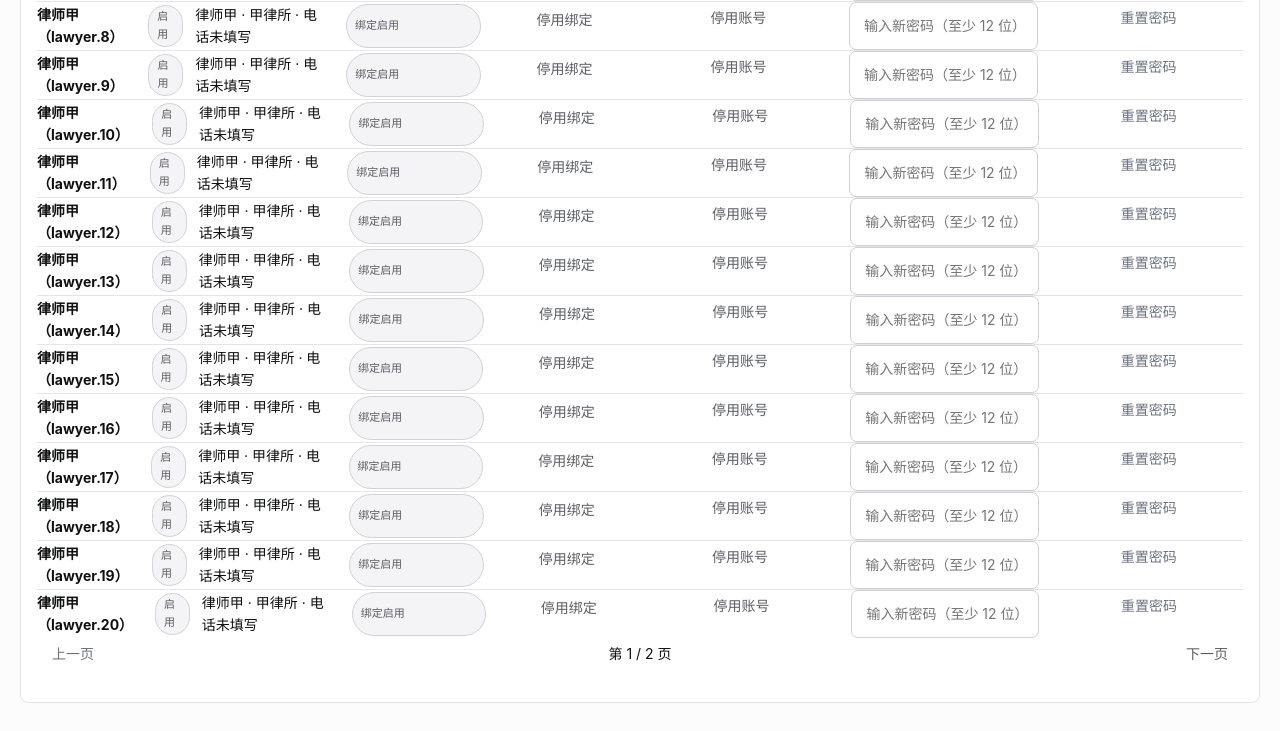
LawyerAccountsPage › provides a server-backed next page for lawyer accounts
(page scrolled)
Click the button "下一页" at (1207, 654), box [1171,638,1243,670]
(page scrolled)
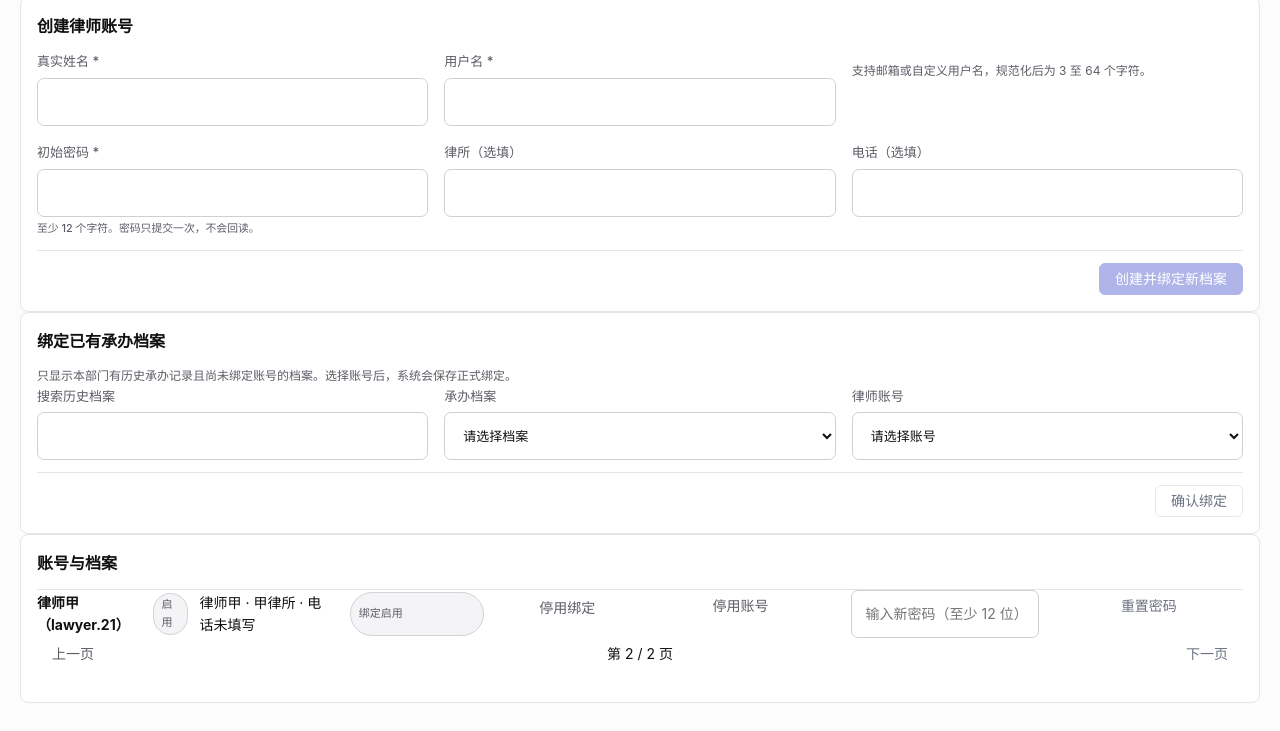
Check: the text "lawyer.21" is shown, box [37,594,130,633]
